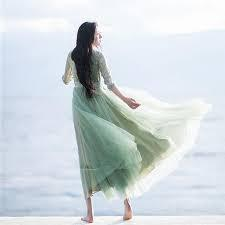dress: (67, 48, 211, 199)
